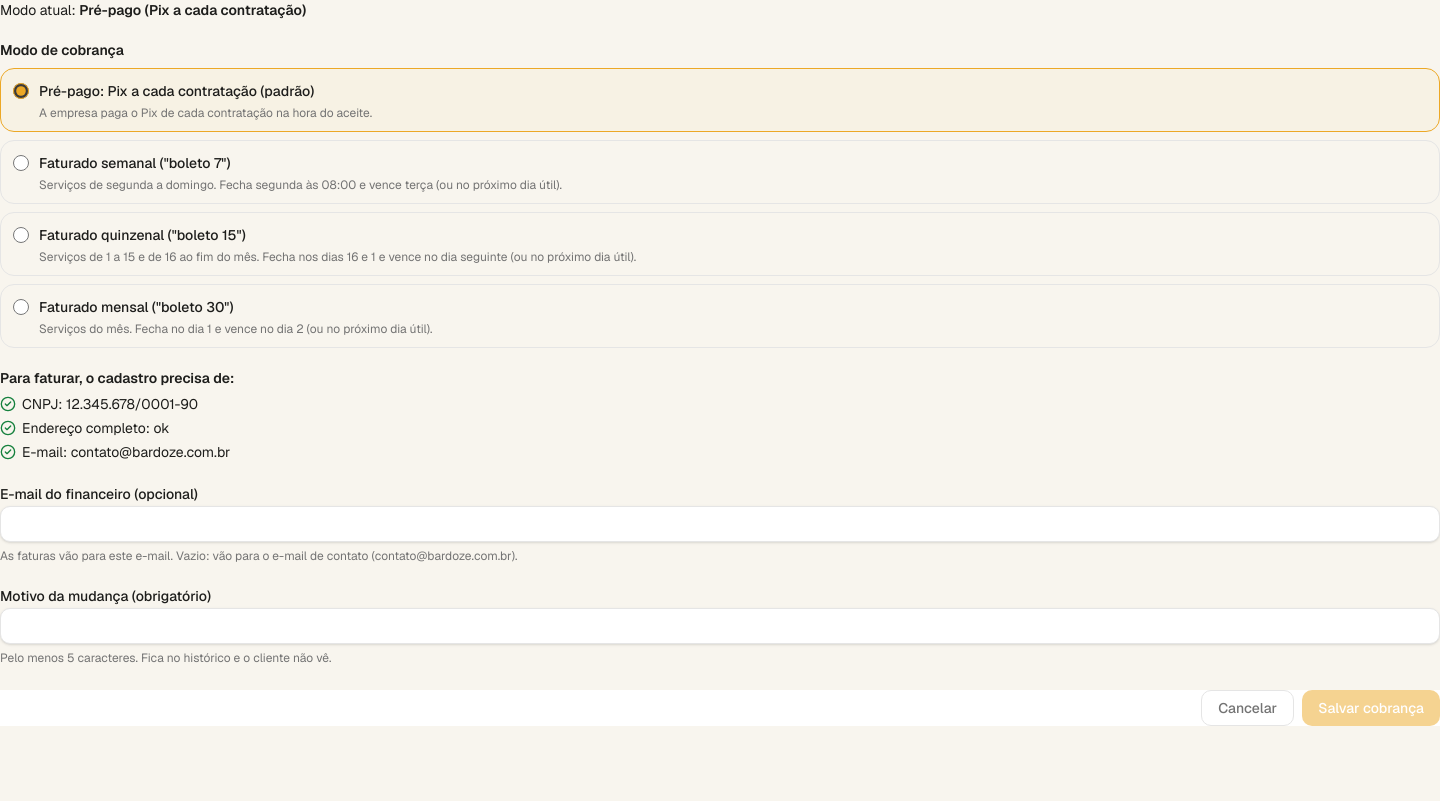
BillingTab — modos e pré-requisitos › 'O que muda' com a 1ª fatura das prévias do servidor
The width and height of the screenshot is (1440, 801).
Expected: the text "O que muda" is not shown
What coordinates should you click on to do the following:
click the radio button labelled "Faturado semanal (\"boleto 7\")"
I would click on:
 (21, 163)
Its box is left=13, top=155, right=29, bottom=171.
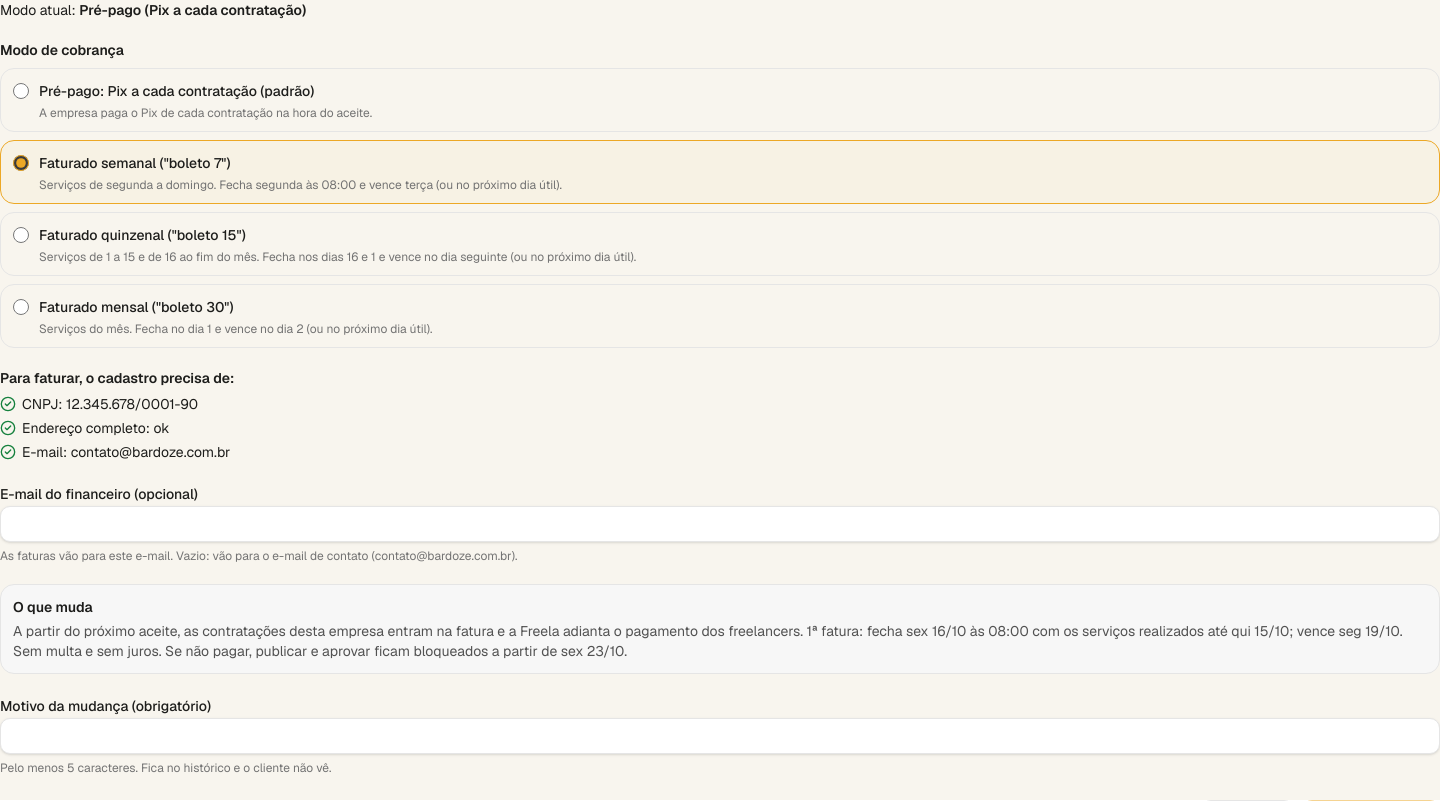
Expected: the element "O que muda" shows "1ª fatura: fecha sex 16/10 às 08:00 com os serviços realizados até qui 15/10; vence seg 19/10.", left=13, top=622, right=1403, bottom=660
Expected: the element "O que muda" shows "Se não pagar, publicar e aprovar ficam bloqueados a partir de sex 23/10.", left=13, top=622, right=1403, bottom=660
